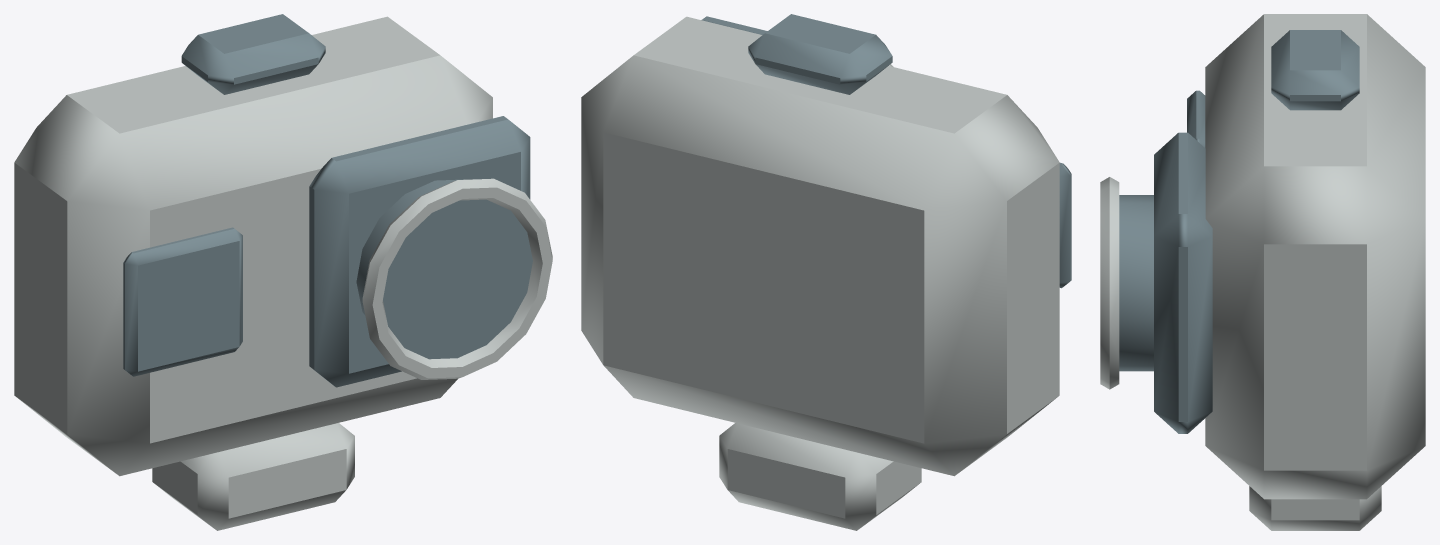
The model's file is action-camera.glb.
3 views of the same model, side by side, from view 1: azimuth 30°, elevation 25°; view 2: azimuth 150°, elevation 25°; view 3: azimuth 270°, elevation 25° (orthographic). The views are drawn at different scales.
Parts seen in each view (by area): view 1: rugged_housing, lens_square, lens, front_status_screen, mount, lens_bezel, shutter; view 2: rugged_housing, mount, shutter, front_status_screen; view 3: rugged_housing, lens_square, shutter, lens, lens_bezel, mount, front_status_screen.
Boxes of the visible parts, box(x1,y1,x2,y2) form: rugged_housing: box(14, 16, 492, 476); lens_square: box(309, 116, 530, 387); lens: box(356, 179, 532, 359); front_status_screen: box(123, 227, 242, 376); mount: box(152, 423, 354, 530); lens_bezel: box(362, 178, 552, 379); shutter: box(181, 14, 325, 94); rugged_housing: box(581, 16, 1059, 476); mount: box(719, 423, 921, 530); shutter: box(748, 14, 892, 94); front_status_screen: box(1059, 162, 1071, 288); rugged_housing: box(1205, 14, 1425, 499); lens_square: box(1154, 132, 1212, 433); shutter: box(1271, 30, 1359, 110); lens: box(1119, 195, 1153, 371); lens_bezel: box(1100, 177, 1119, 389); mount: box(1249, 486, 1381, 530); front_status_screen: box(1187, 90, 1205, 147).
Bounding box in the file's own units: 0.065 × 0.068 × 0.0443.
